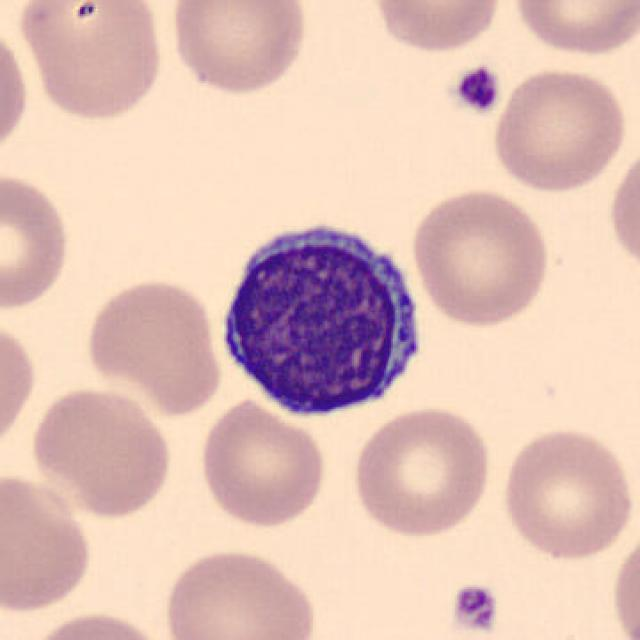Lymphocyte: (212, 206, 432, 425)
Platelets: (448, 580, 501, 637), (452, 64, 503, 116)
RBC: (407, 183, 553, 330), (82, 273, 224, 418), (348, 402, 496, 541), (27, 383, 176, 520), (498, 423, 636, 563), (14, 0, 167, 125), (489, 63, 629, 194), (196, 396, 330, 530), (160, 543, 322, 640), (165, 0, 313, 99), (0, 466, 96, 617), (0, 167, 75, 314), (368, 0, 507, 55), (508, 0, 638, 58), (0, 314, 39, 460), (16, 608, 176, 640), (606, 140, 640, 280), (0, 18, 32, 164), (608, 523, 640, 640)
